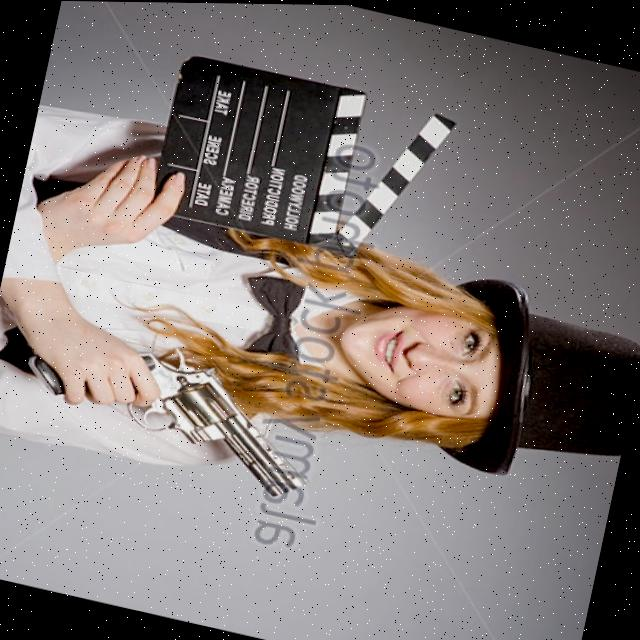pistol: (117, 339, 326, 499)
